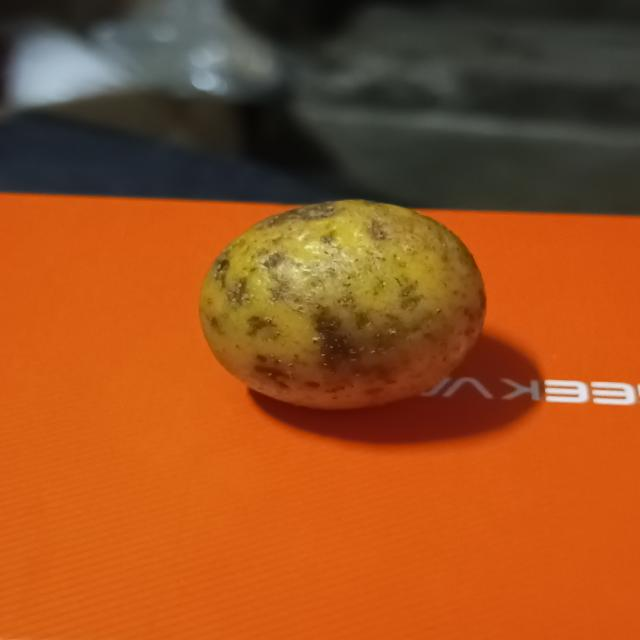black spot: (196, 194, 491, 411)
